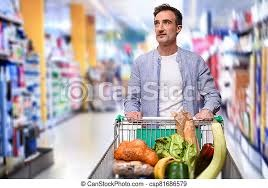with_basket: (95, 115, 237, 177)
without_mask: (153, 4, 182, 44)
